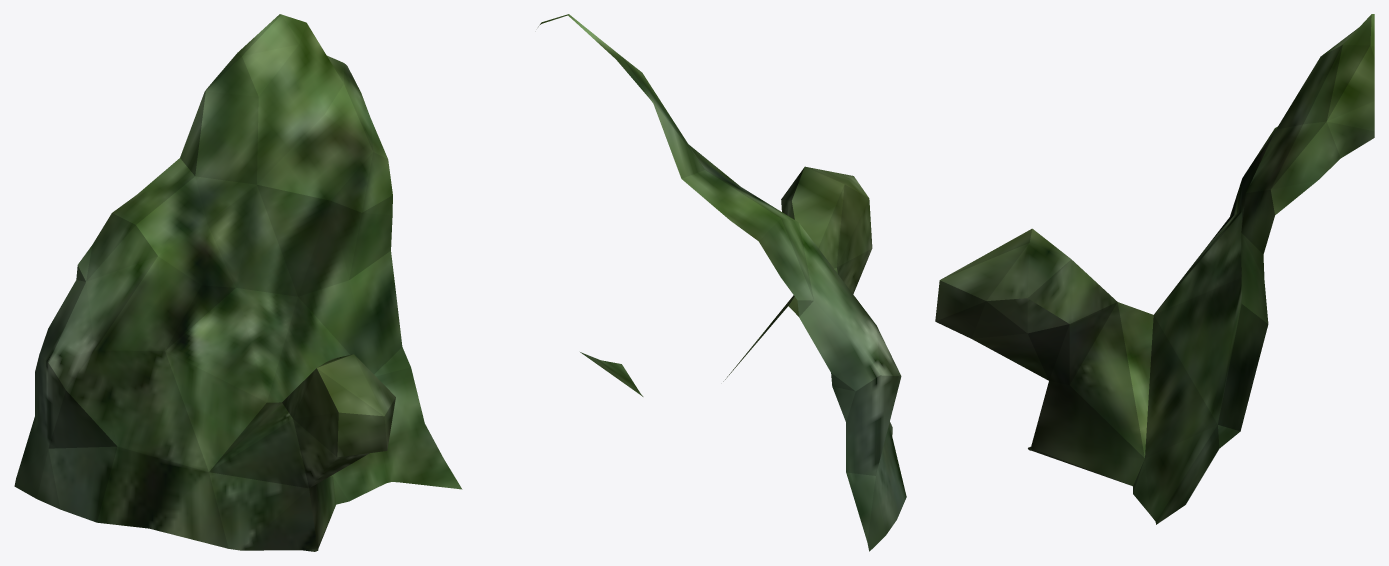
The picture shows the model from 3 angles, left to right: view 1: azimuth 30°, elevation 25°; view 2: azimuth 150°, elevation 25°; view 3: azimuth 270°, elevation 25°; orthographic projection. The views are drawn at different scales.
Size of the model in its own units: 0.2406 by 0.2818 by 0.2254.
1 material, 1 textured.
